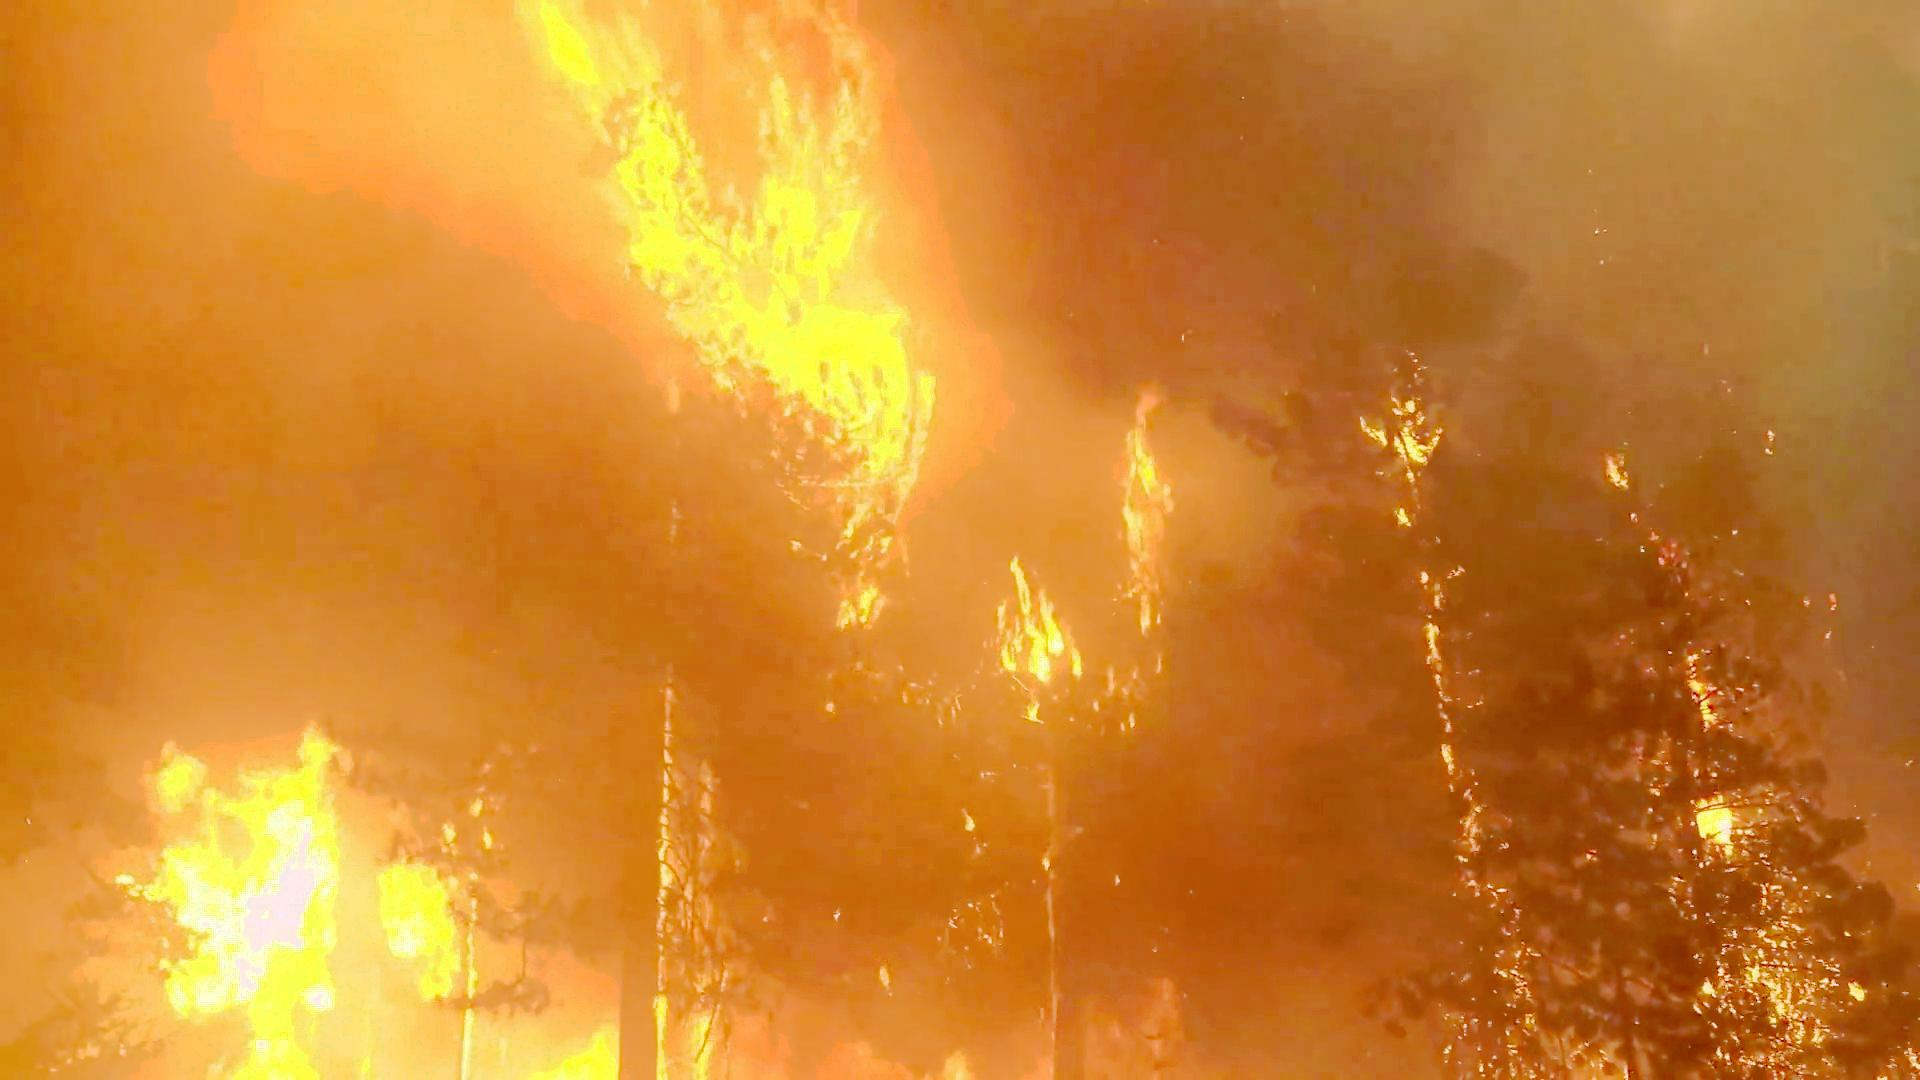fire: (537, 7, 934, 440), (113, 703, 459, 1080)
